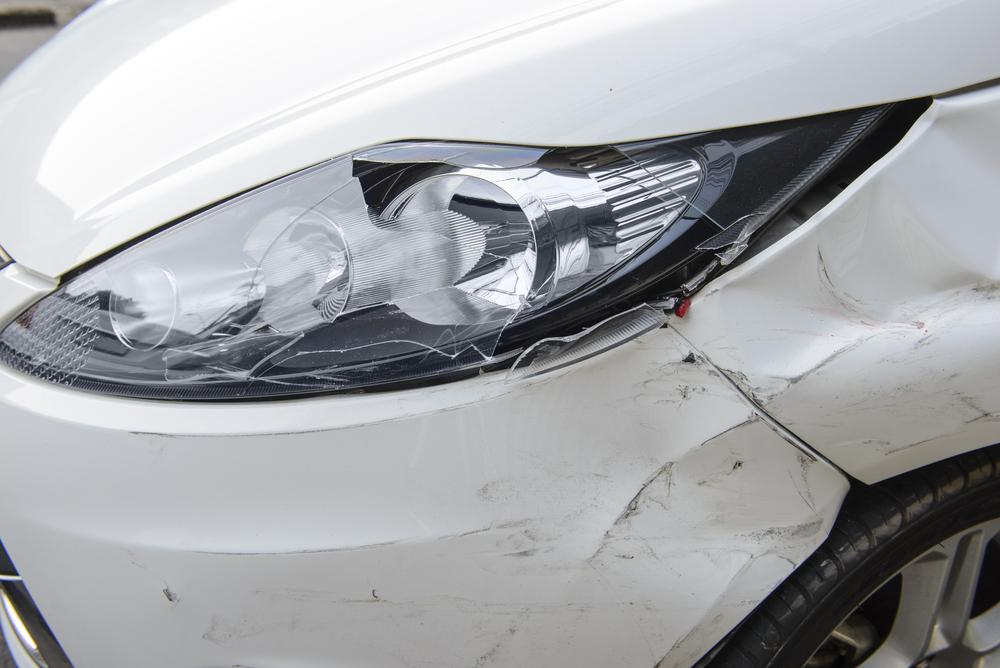dent: (683, 99, 1000, 406), (505, 330, 846, 572)
lamp broken: (0, 99, 931, 403)
scratch: (159, 474, 730, 668), (124, 397, 498, 441), (824, 372, 1000, 460)
